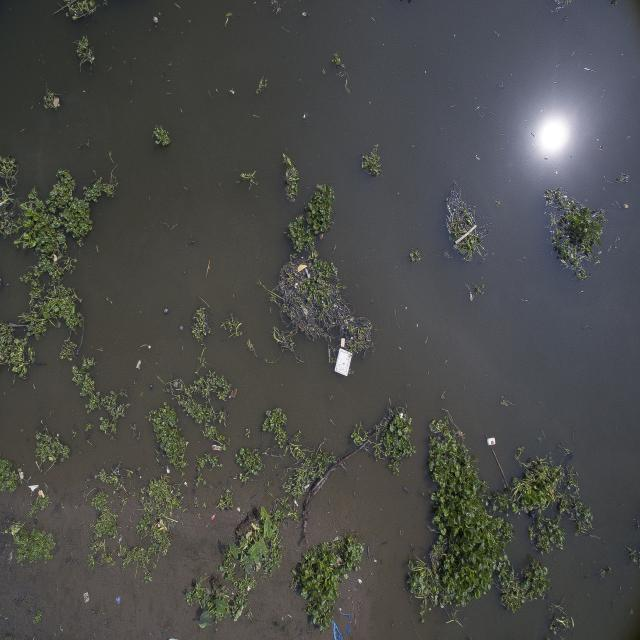plastic: (333, 332, 361, 392), (484, 431, 507, 458)
